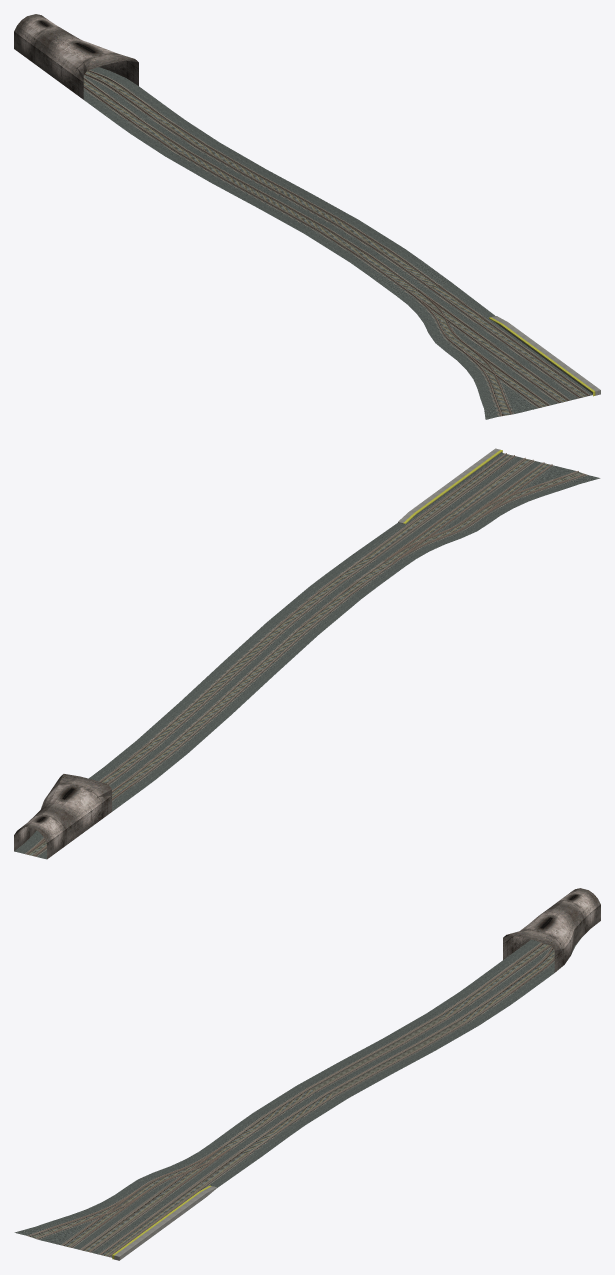
The model's file is vegasnedge07.obj.
The picture shows the model from 3 angles, top to bottom: view 1: azimuth 30°, elevation 25°; view 2: azimuth 150°, elevation 25°; view 3: azimuth 330°, elevation 25°; orthographic projection. The views are drawn at different scales.
Parts seen in each view (by area): view 1: VegasNedge07; view 2: VegasNedge07; view 3: VegasNedge07.
Boxes of the visible parts, left/top/right/bottom form: VegasNedge07: left=14, top=14, right=600, bottom=419; VegasNedge07: left=14, top=448, right=600, bottom=859; VegasNedge07: left=14, top=888, right=600, bottom=1260.
Bounding box in the file's own units: 23.01 × 6.81 × 184.
10 materials, 10 textured.
